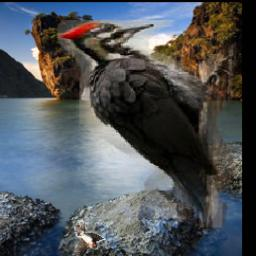Swallow: (71, 221, 108, 256)
Woodpecker: (58, 20, 236, 227)
